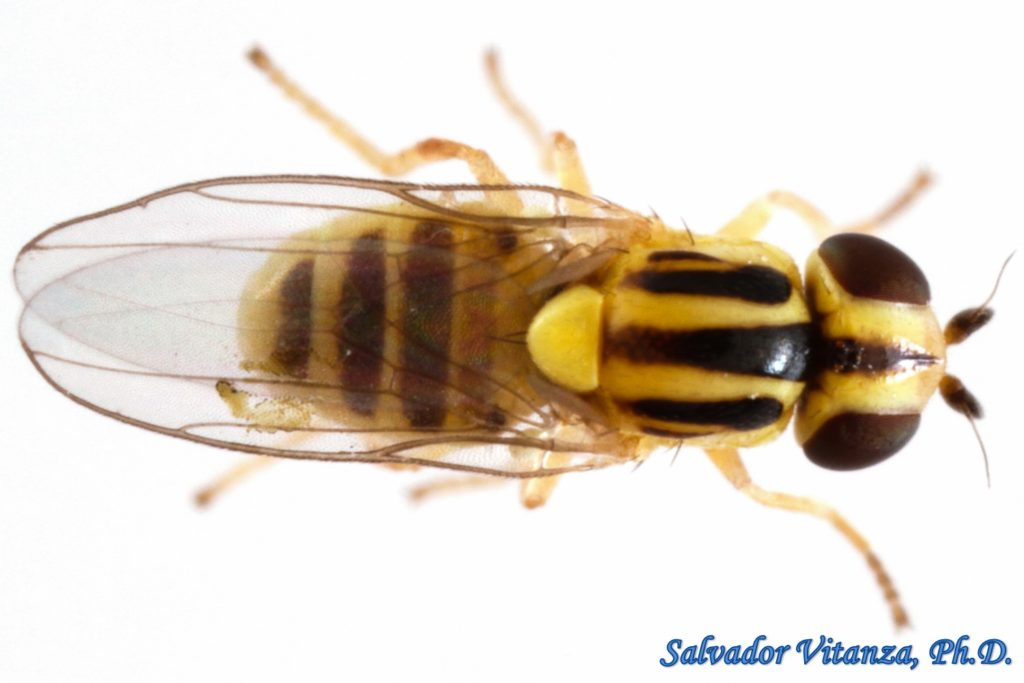Chloropidae: (12, 44, 1017, 628)
